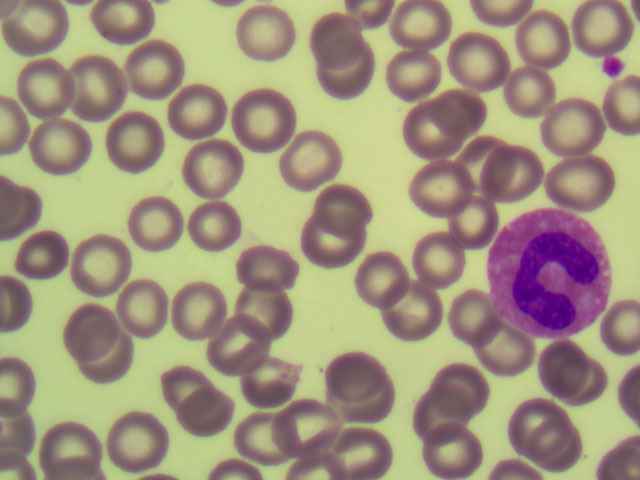Platelets: (597, 57, 623, 77)
RBC: (41, 414, 107, 480), (101, 414, 167, 480), (333, 414, 399, 480), (417, 414, 483, 480), (63, 55, 129, 120), (10, 56, 76, 121), (29, 115, 95, 180), (87, 1, 153, 66), (113, 38, 179, 103), (156, 74, 222, 139), (104, 112, 170, 177), (68, 232, 134, 297), (15, 225, 81, 290), (119, 193, 185, 258), (181, 197, 247, 262), (178, 135, 244, 200), (230, 89, 296, 154), (237, 10, 303, 75), (275, 125, 341, 190), (314, 174, 380, 239), (302, 202, 368, 267), (234, 230, 300, 295), (227, 271, 293, 336), (211, 307, 277, 372), (161, 278, 227, 343), (106, 271, 172, 336), (63, 296, 129, 361), (78, 341, 144, 406), (145, 354, 211, 419), (177, 380, 243, 445), (222, 406, 288, 471), (279, 403, 345, 468), (239, 353, 305, 418), (317, 336, 383, 401), (337, 370, 403, 435), (406, 378, 472, 443), (437, 349, 503, 414), (379, 280, 445, 345), (345, 246, 411, 311), (409, 229, 475, 294), (434, 192, 500, 257), (403, 153, 469, 218), (436, 129, 502, 194), (478, 143, 544, 208), (395, 99, 461, 164), (426, 81, 492, 146), (373, 45, 439, 110), (318, 48, 384, 113), (300, 5, 366, 70), (449, 28, 515, 93), (500, 58, 566, 123), (511, 13, 577, 78), (539, 97, 605, 162), (549, 148, 615, 213), (1, 1, 67, 65), (373, 1, 439, 65), (538, 341, 609, 394), (507, 395, 578, 448), (565, 1, 636, 53), (598, 302, 640, 360)
WBC: (493, 202, 607, 337)
